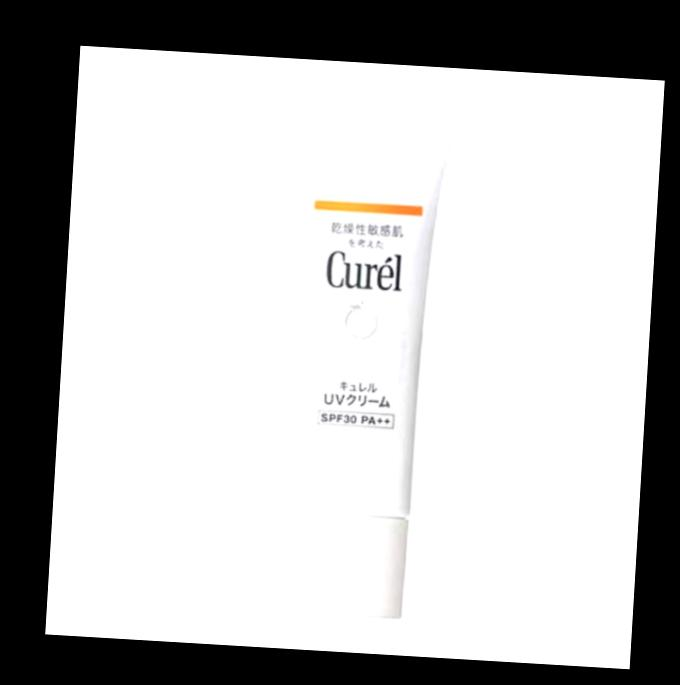cosmetic: (263, 119, 451, 618)
